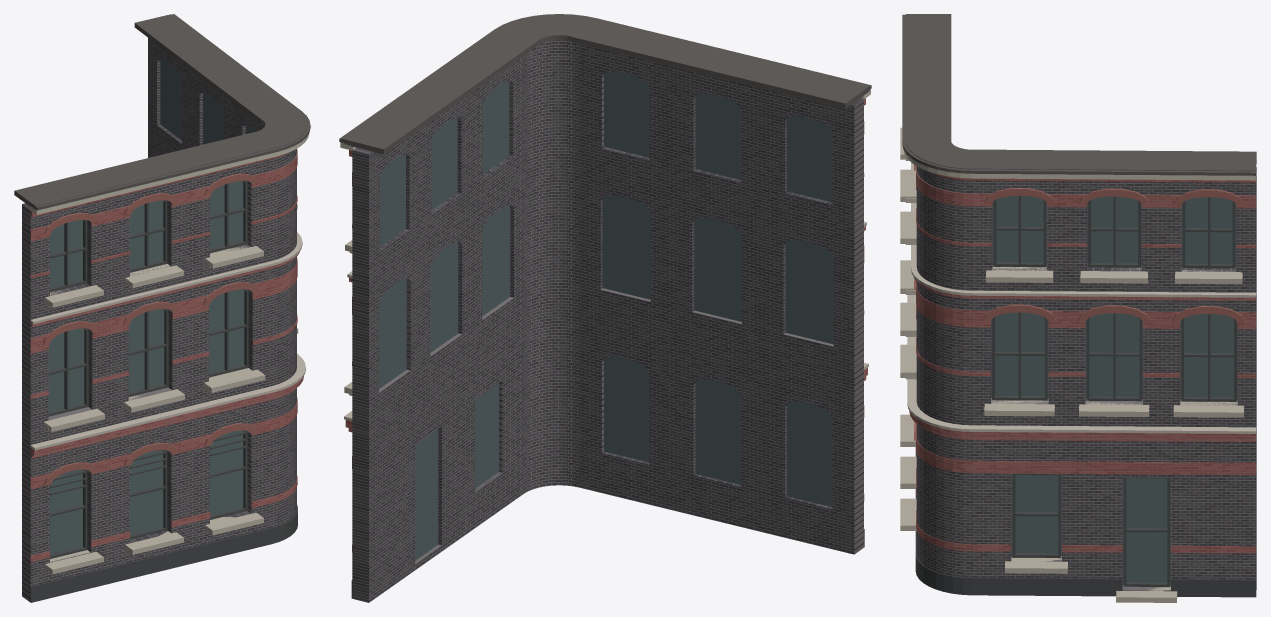
Rendered from huangpu-hengye-li-jiangxi-corner-lod.glb.
3 renders of one model, left to right at view 1: azimuth 30°, elevation 25°; view 2: azimuth 150°, elevation 25°; view 3: azimuth 270°, elevation 25°, orthographic. The views are drawn at different scales.
Parts seen in each view (by area): view 1: 恒业里江西中路115号泗泾路转角; view 2: 恒业里江西中路115号泗泾路转角; view 3: 恒业里江西中路115号泗泾路转角.
Boxes of the visible parts, left/top/right/bottom form: 恒业里江西中路115号泗泾路转角: left=14, top=14, right=310, bottom=602; 恒业里江西中路115号泗泾路转角: left=339, top=14, right=871, bottom=602; 恒业里江西中路115号泗泾路转角: left=900, top=14, right=1256, bottom=602.
Bounding box in the file's own units: 9.15 × 11.56 × 8.67.
Materials: 10 (2 with a texture image).
